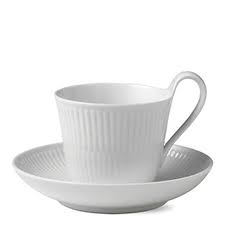cup: (7, 69, 215, 215)
